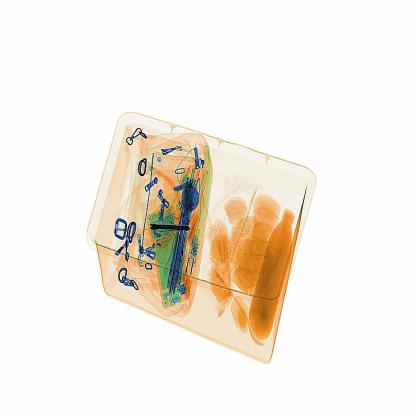knife: (148, 216, 202, 241)
